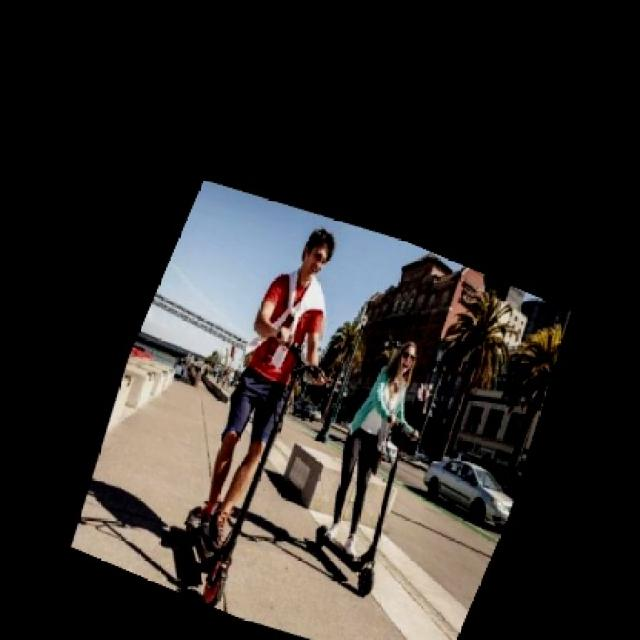bare_head: (288, 220, 347, 285), (389, 330, 427, 382)
human: (199, 202, 327, 564), (324, 313, 429, 554)
kickboard: (174, 496, 247, 614), (311, 521, 378, 598)
